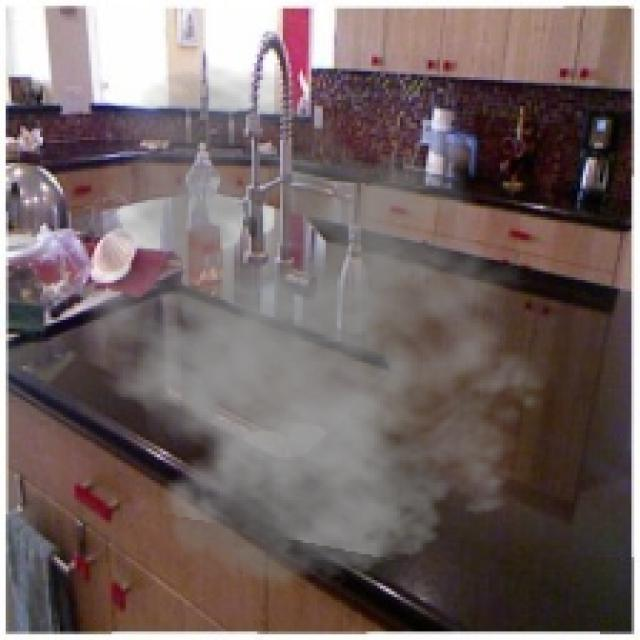Smoke: (31, 62, 566, 598)
